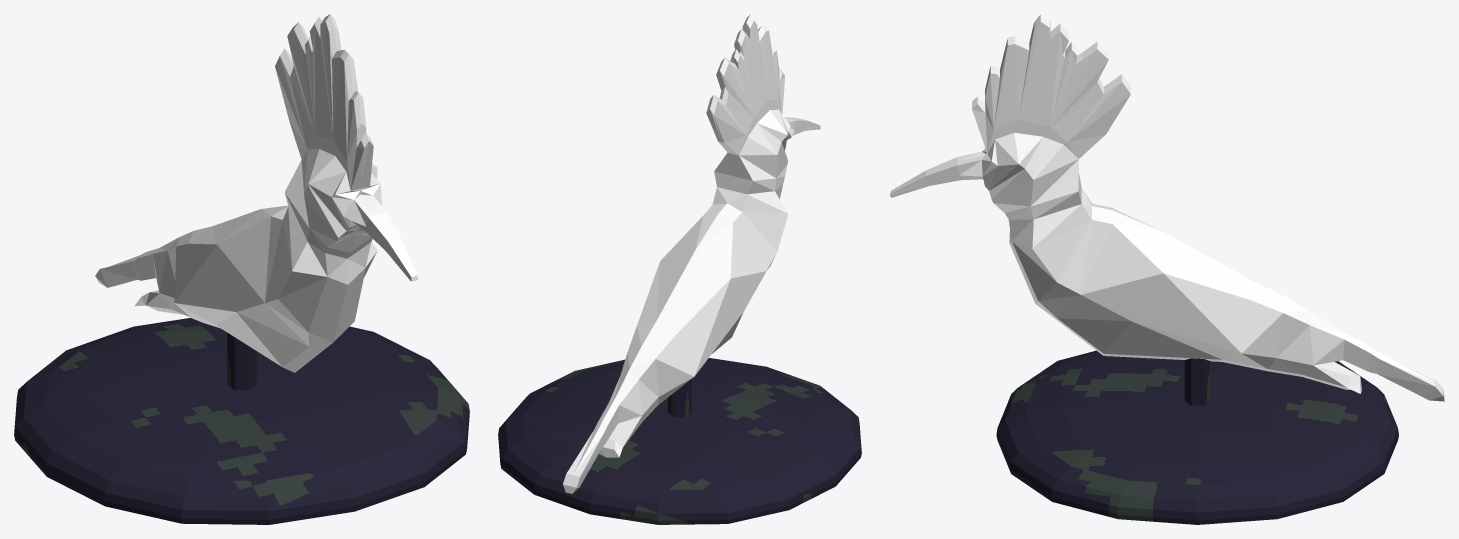
The model's file is UrStormbird.obj.
3 renders of one model, left to right at view 1: azimuth 30°, elevation 25°; view 2: azimuth 150°, elevation 25°; view 3: azimuth 270°, elevation 25°, orthographic. The views are drawn at different scales.
Visible parts, largest first — view 1: Base_of_Statue, Hoopoe_Statue_(Thunderbird), Base_Stem_of_Statue; view 2: Base_of_Statue, Hoopoe_Statue_(Thunderbird), Base_Stem_of_Statue; view 3: Hoopoe_Statue_(Thunderbird), Base_of_Statue, Base_Stem_of_Statue.
Boxes of the visible parts, box(x1,y1,x2,y2) form: Base_of_Statue: box(14, 318, 469, 524); Hoopoe_Statue_(Thunderbird): box(95, 14, 418, 372); Base_Stem_of_Statue: box(227, 333, 256, 390); Base_of_Statue: box(498, 358, 861, 524); Hoopoe_Statue_(Thunderbird): box(563, 14, 820, 493); Base_Stem_of_Statue: box(668, 379, 691, 417); Hoopoe_Statue_(Thunderbird): box(890, 14, 1444, 401); Base_of_Statue: box(996, 350, 1398, 524); Base_Stem_of_Statue: box(1184, 358, 1210, 405).
Size of the model in its own units: 0.9167 by 1.09 by 1.26.
